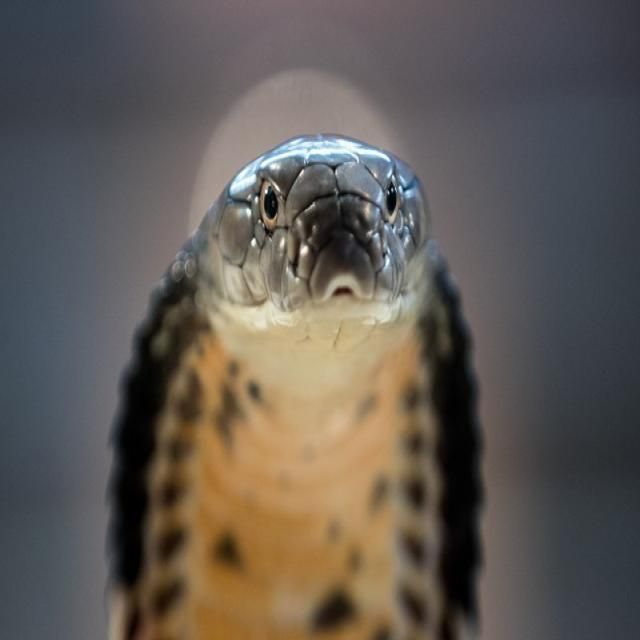Snake: (102, 130, 488, 638)
